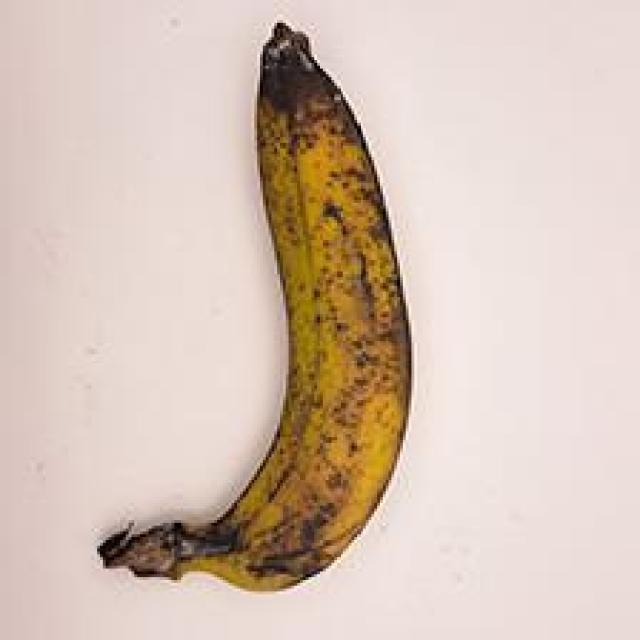Overripe: (43, 12, 418, 628)
